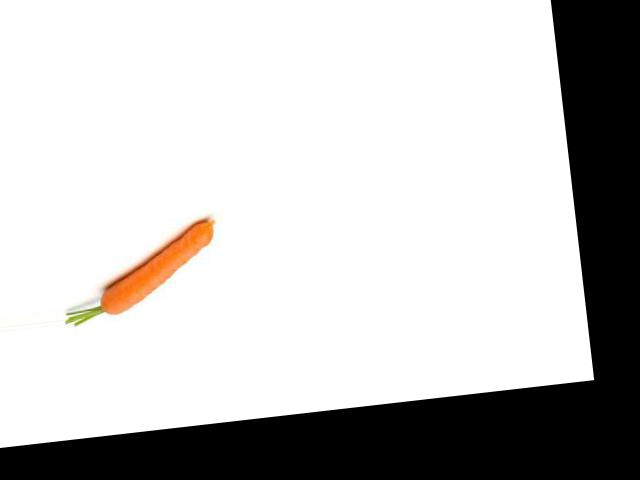carrot: (89, 218, 225, 317)
